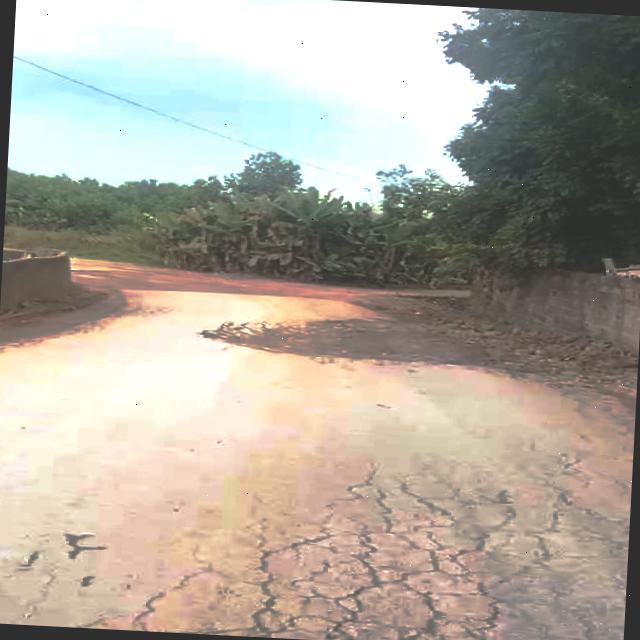pothole: (205, 310, 508, 371)
